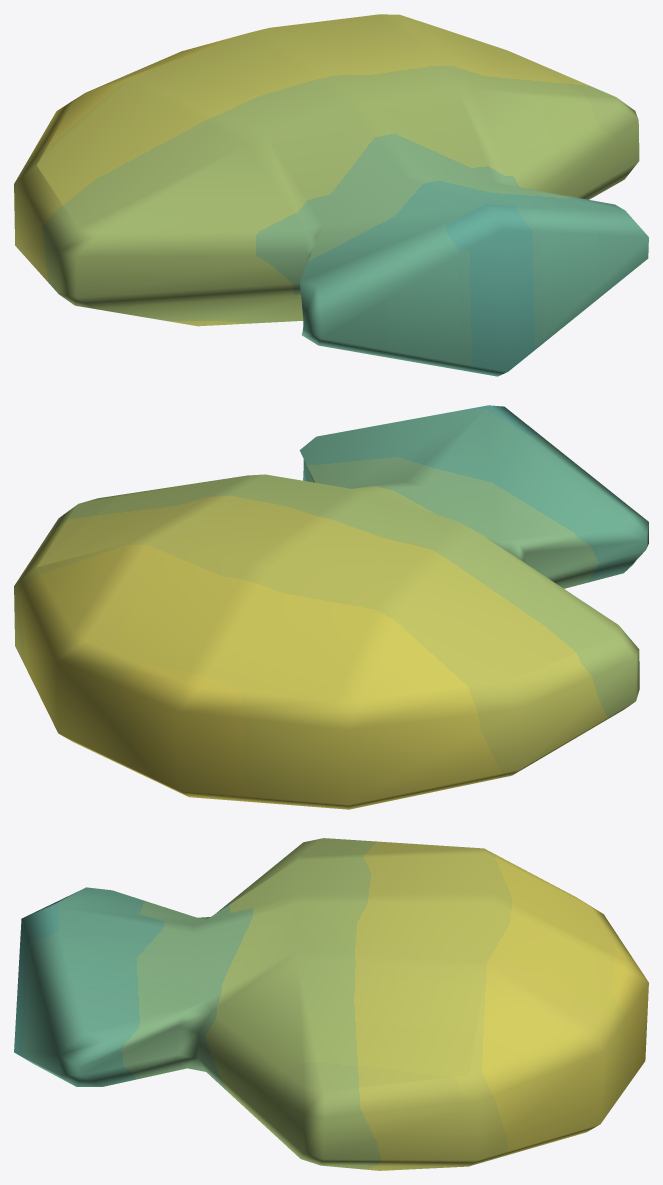
File: model_shell_01.fbx
3 renders of one model, top to bottom at view 1: azimuth 30°, elevation 25°; view 2: azimuth 150°, elevation 25°; view 3: azimuth 270°, elevation 25°, orthographic. The views are drawn at different scales.
Parts seen in each view (by area): view 1: pDisc3; view 2: pDisc3; view 3: pDisc3.
Boxes of the visible parts, x1,y1,x2,y2 form: pDisc3: [14, 14, 648, 376]; pDisc3: [14, 405, 648, 809]; pDisc3: [14, 838, 648, 1170].
Bounding box in the file's own units: 7.44 × 2.88 × 7.36.
